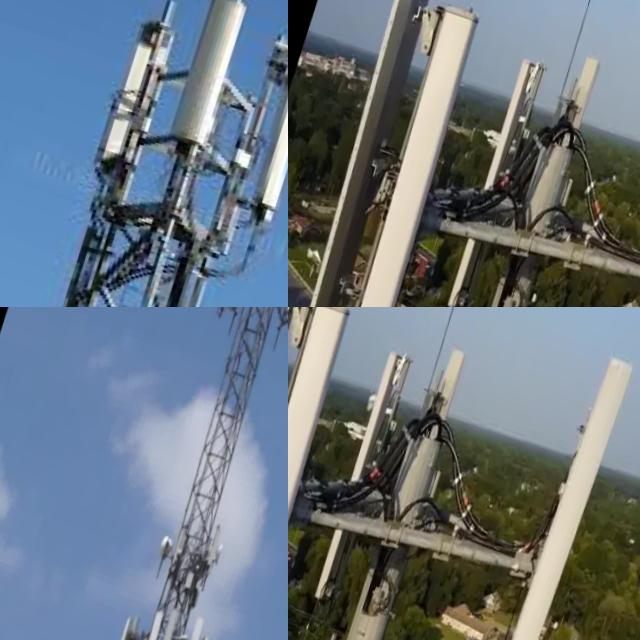GSM Antenna: (480, 332, 640, 640), (356, 0, 481, 307), (309, 0, 431, 307), (309, 334, 419, 617), (445, 38, 549, 307), (288, 307, 370, 640), (161, 0, 264, 160), (405, 333, 474, 502), (229, 36, 288, 215), (97, 29, 163, 160), (561, 44, 606, 131), (147, 583, 194, 640), (133, 592, 178, 640), (103, 596, 151, 640), (169, 600, 217, 640), (180, 610, 223, 640)
Microwave Antenna: (158, 524, 182, 559), (212, 534, 232, 565)
